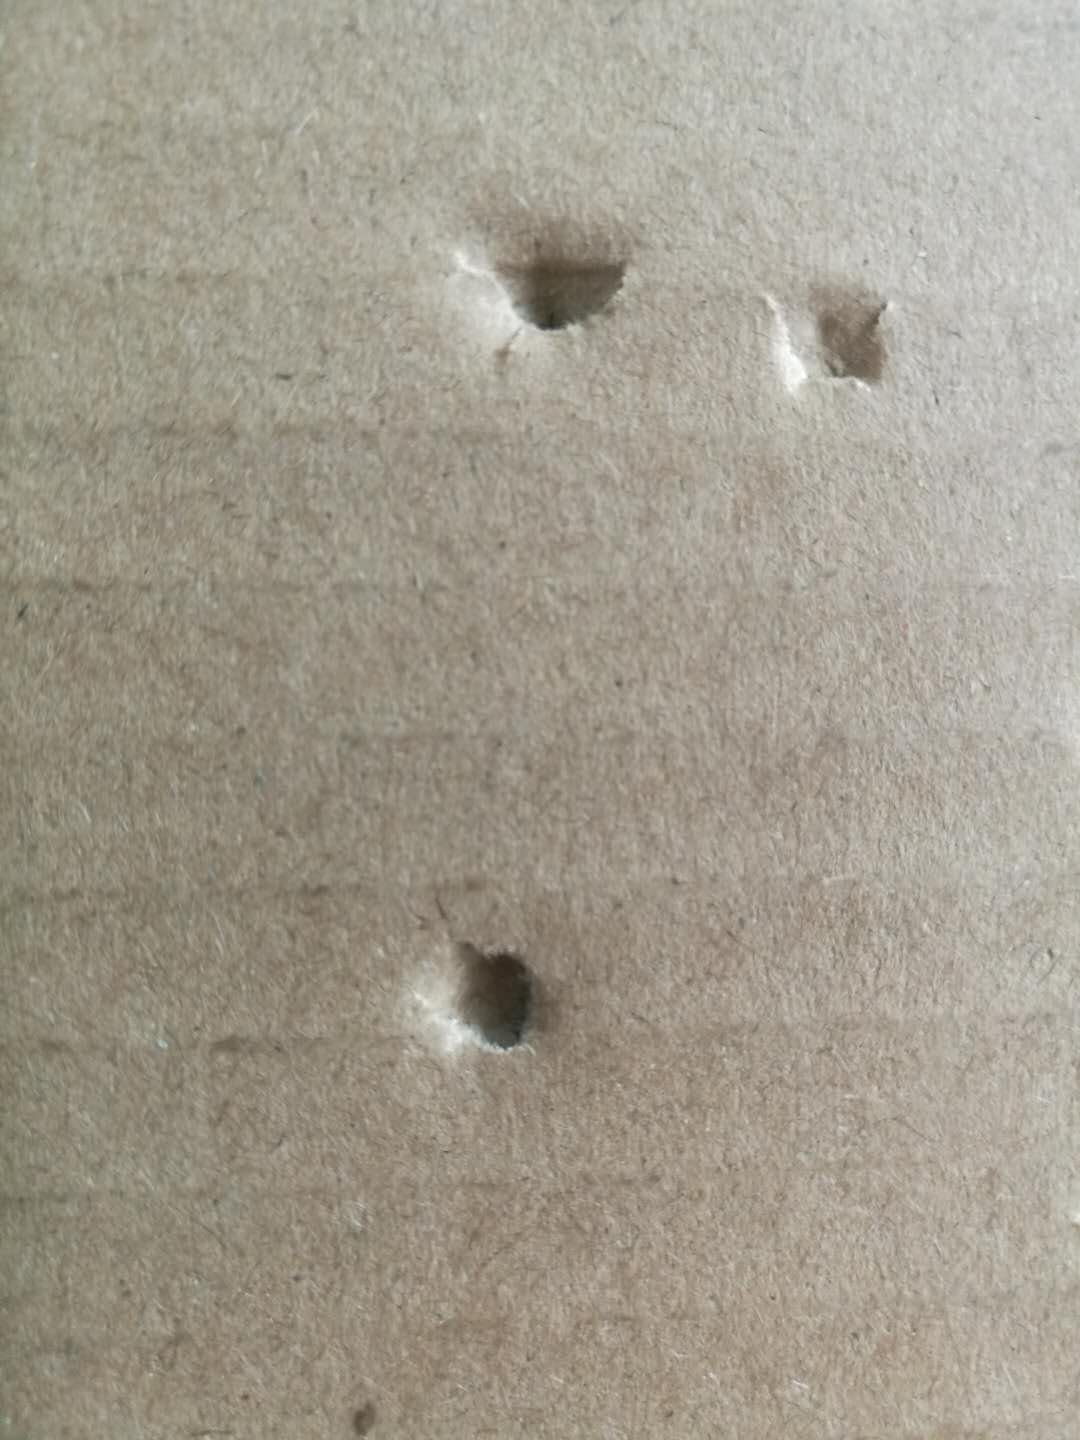defect: (422, 181, 666, 401), (391, 903, 577, 1089), (743, 248, 931, 420)
